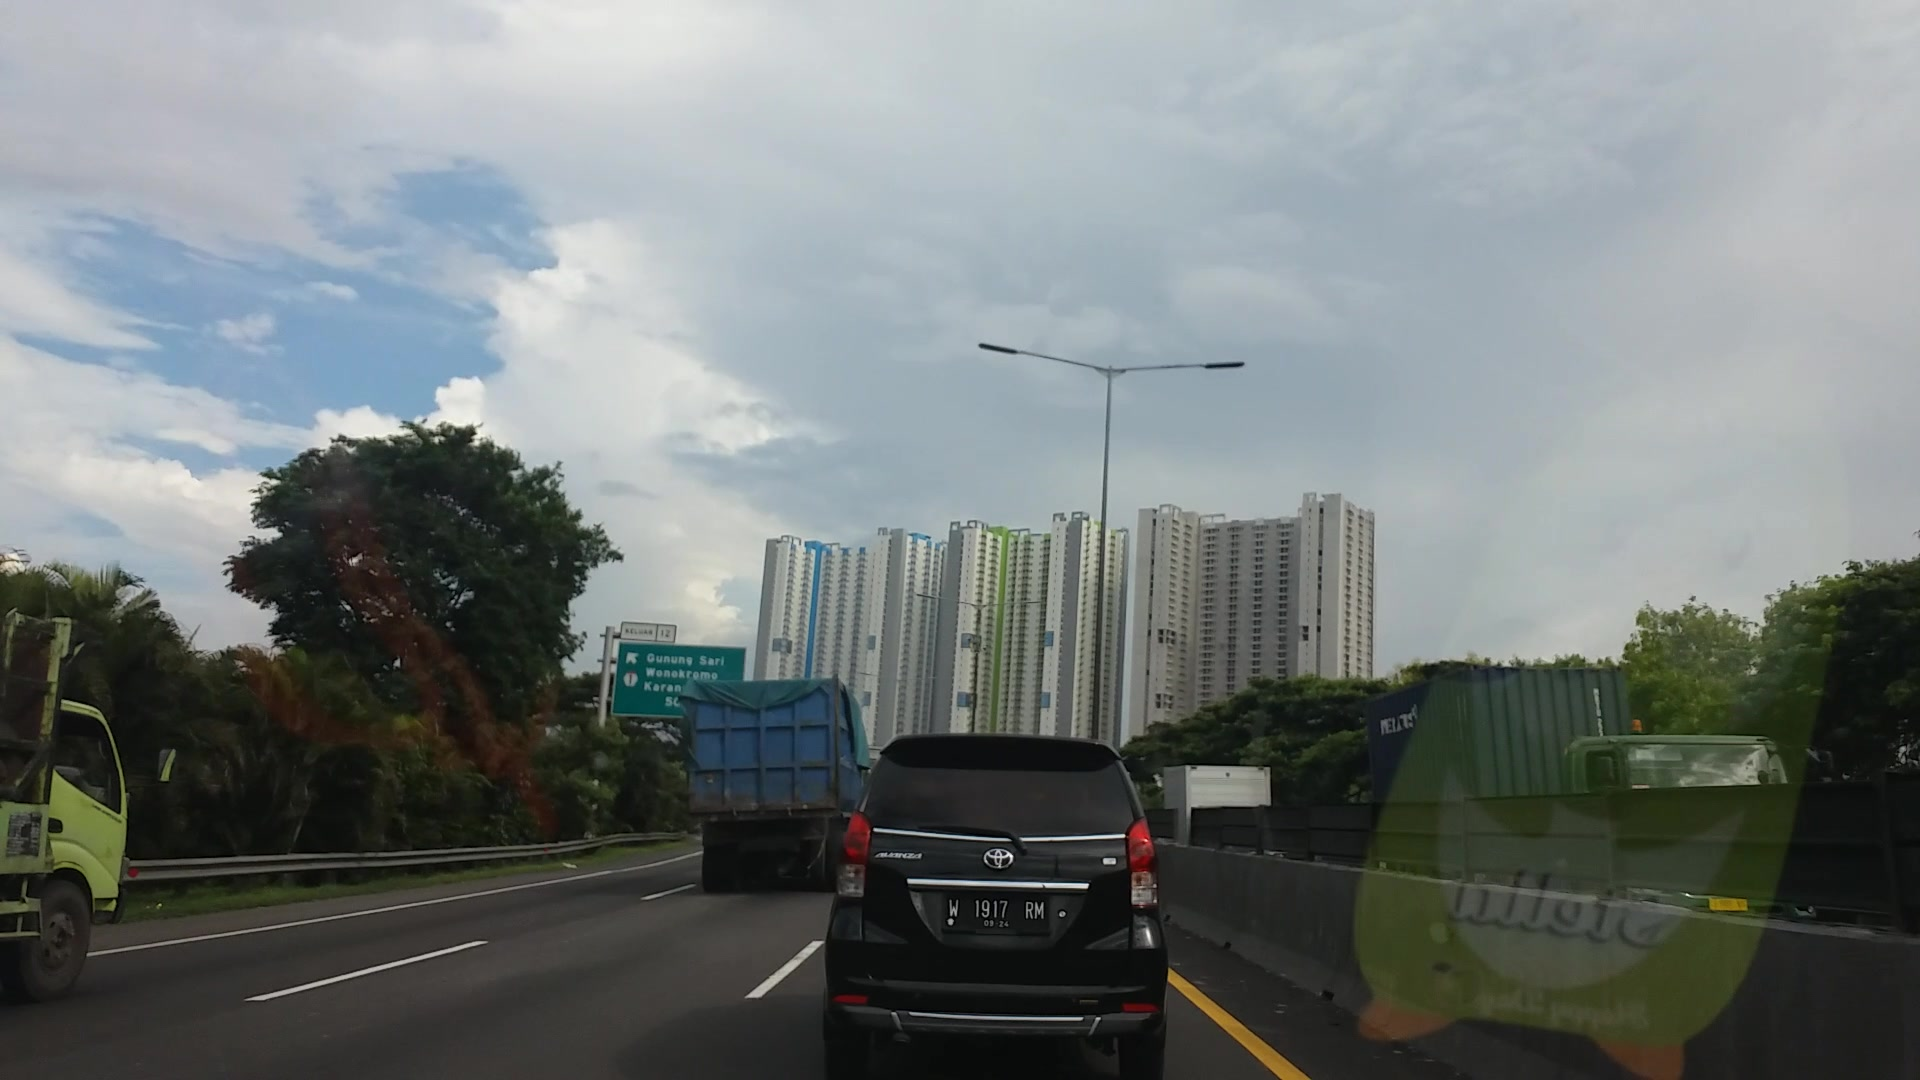plate_positive: (944, 891, 1047, 928)
